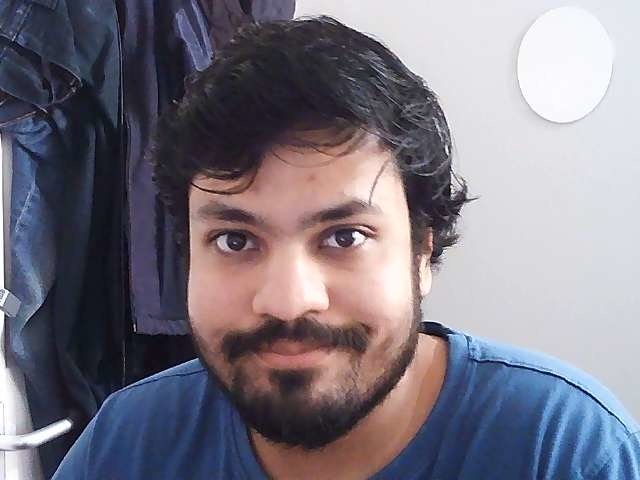Face: (146, 8, 463, 450)
